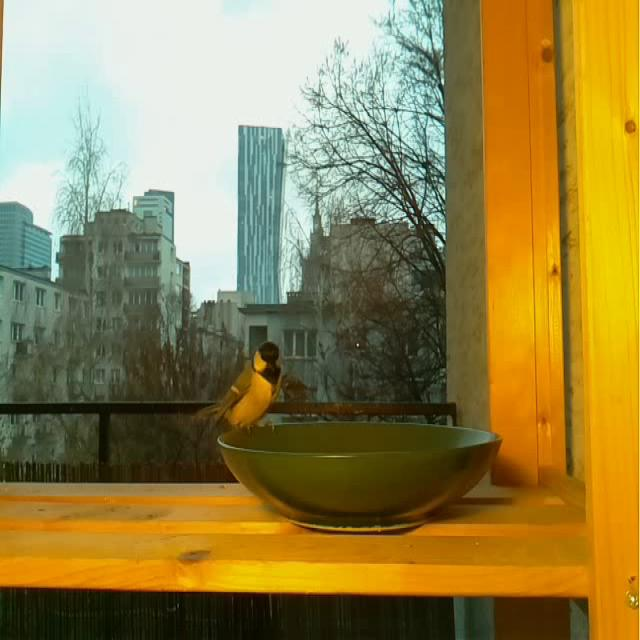Bogatka: (198, 337, 284, 436)
